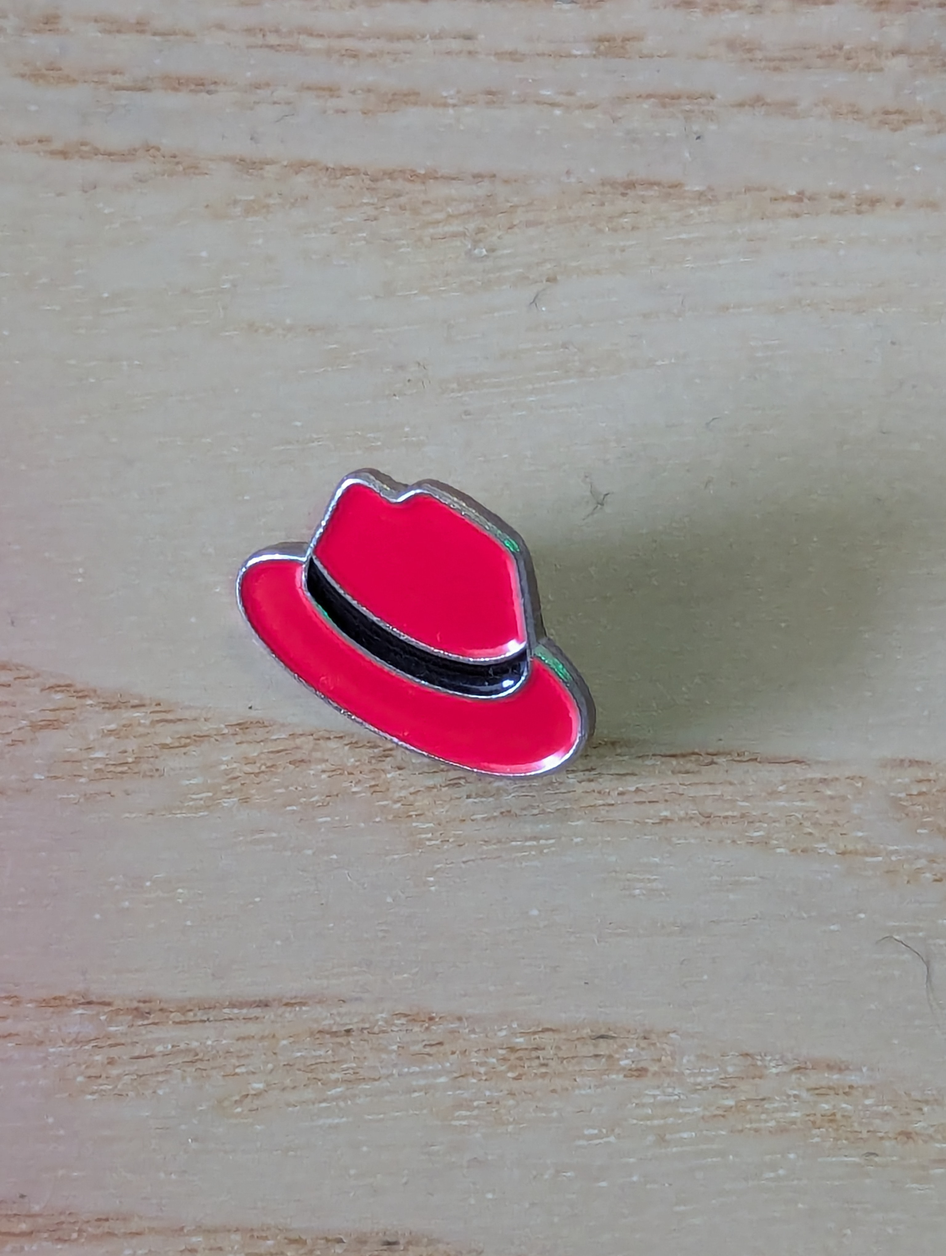Red-Hat: (166, 368, 774, 919)
